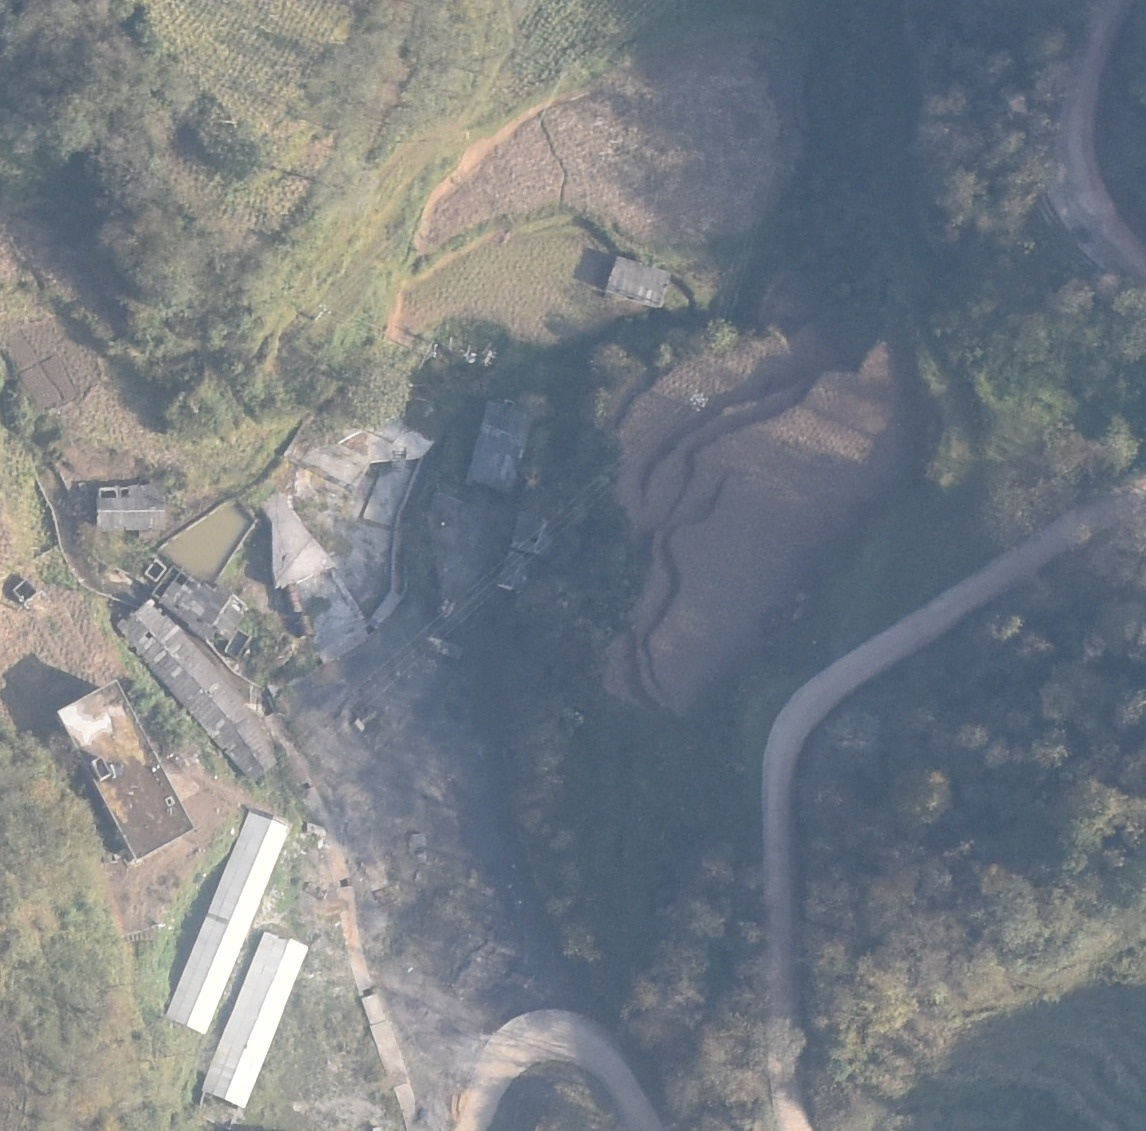building: (57, 682, 194, 863), (261, 493, 341, 586), (463, 401, 537, 497), (512, 509, 552, 554), (501, 556, 529, 592)
cable-tower: (691, 390, 711, 409)
pool: (163, 500, 265, 585)
prefabricated-house: (116, 601, 291, 783), (163, 808, 288, 1036), (202, 931, 311, 1110), (153, 572, 251, 640), (602, 254, 673, 309), (96, 486, 169, 533)
